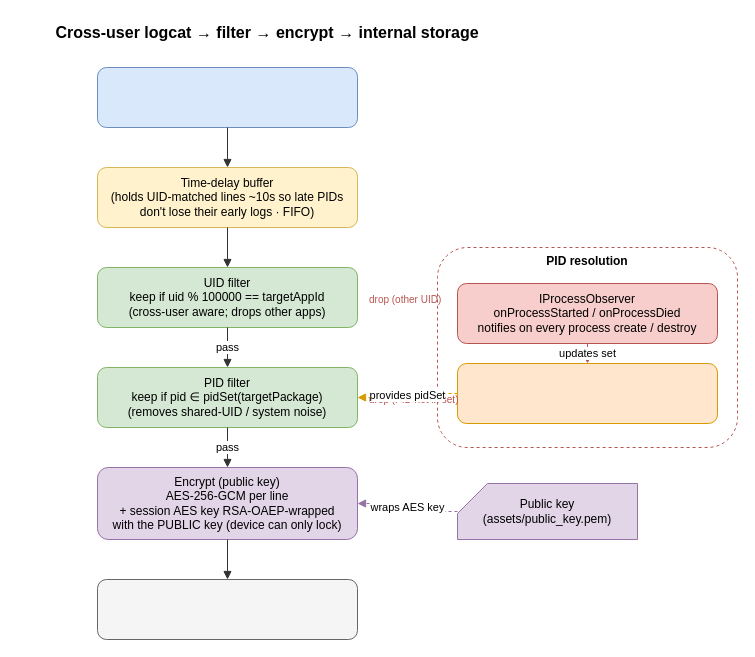
The diagram is 755 pixels wide and 657 high, and some of its shapes have lost their labels. Here are the shapes that lost their labels. From the top down, the centre of each, then its label:
At (x=227, y=97): "logcat -b all -v uid,threadtime (provides ALL device logs)".
At (x=587, y=393): "PID map packageName → { pid, pid, … } (kept current from observer callbacks)".
At (x=227, y=609): "Internal storage dataDir/logs/*.elog (user-0 private; exposed only via provider)".
